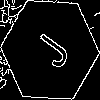J: (25, 25, 72, 72)
